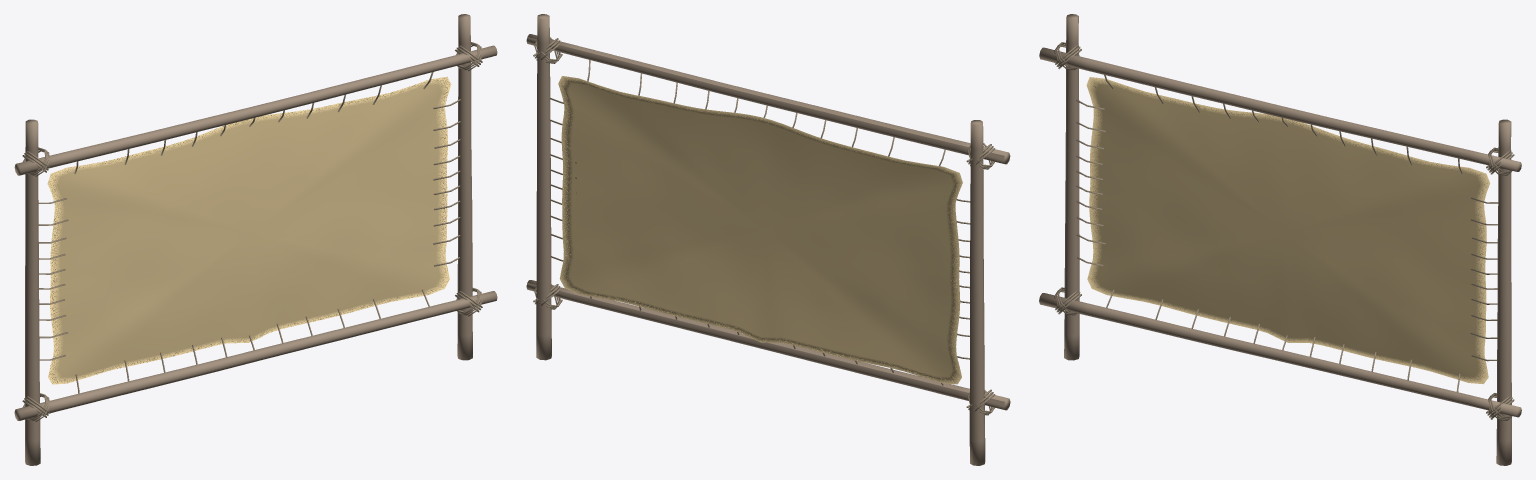
File: Info Hide 4000 TV.fbx
The picture shows the model from 3 angles, left to right: view 1: azimuth 30°, elevation 25°; view 2: azimuth 150°, elevation 25°; view 3: azimuth 330°, elevation 25°; orthographic projection.
Parts seen in each view (by area): view 1: Hide_Mesh, Bar_Top_Mesh, Bar_Bottom_Mesh, Pole_R_Mesh, Pole_L_Mesh; view 2: Hide_Mesh, Bar_Top_Mesh, Bar_Bottom_Mesh, Pole_L_Mesh, Pole_R_Mesh; view 3: Hide_Mesh, Bar_Top_Mesh, Bar_Bottom_Mesh, Pole_R_Mesh, Pole_L_Mesh.
Part boxes in pixels (x1,y1,x2,y2): Hide_Mesh: [38, 72, 460, 393]; Bar_Top_Mesh: [14, 42, 497, 176]; Bar_Bottom_Mesh: [14, 288, 497, 421]; Pole_R_Mesh: [457, 14, 472, 360]; Pole_L_Mesh: [25, 119, 40, 465]; Hide_Mesh: [549, 60, 970, 385]; Bar_Top_Mesh: [526, 34, 1010, 169]; Bar_Bottom_Mesh: [526, 280, 1010, 415]; Pole_L_Mesh: [969, 120, 985, 465]; Pole_R_Mesh: [536, 14, 551, 360]; Hide_Mesh: [1076, 75, 1498, 392]; Bar_Top_Mesh: [1039, 42, 1521, 175]; Bar_Bottom_Mesh: [1039, 287, 1521, 420]; Pole_R_Mesh: [1496, 119, 1511, 465]; Pole_L_Mesh: [1064, 14, 1079, 360].
Size of the model in its own units: 3.42 by 2.33 by 0.194.
